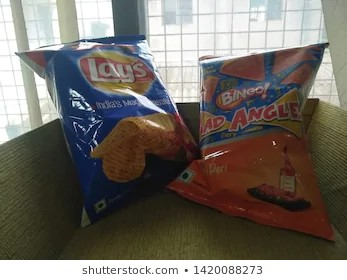lays-small: (18, 24, 199, 230)
